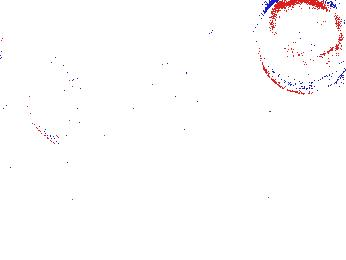moon jellyfish: (256, 1, 346, 95), (27, 61, 88, 151), (26, 1, 133, 51), (110, 2, 215, 52), (137, 31, 202, 86)
